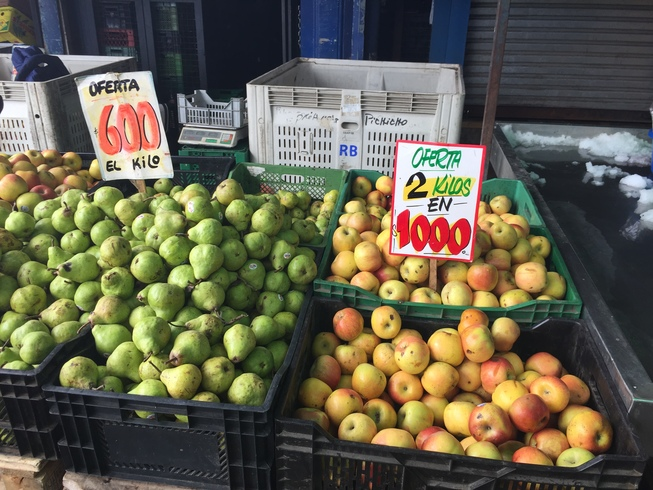precio: (382, 137, 489, 271), (71, 67, 188, 188)
